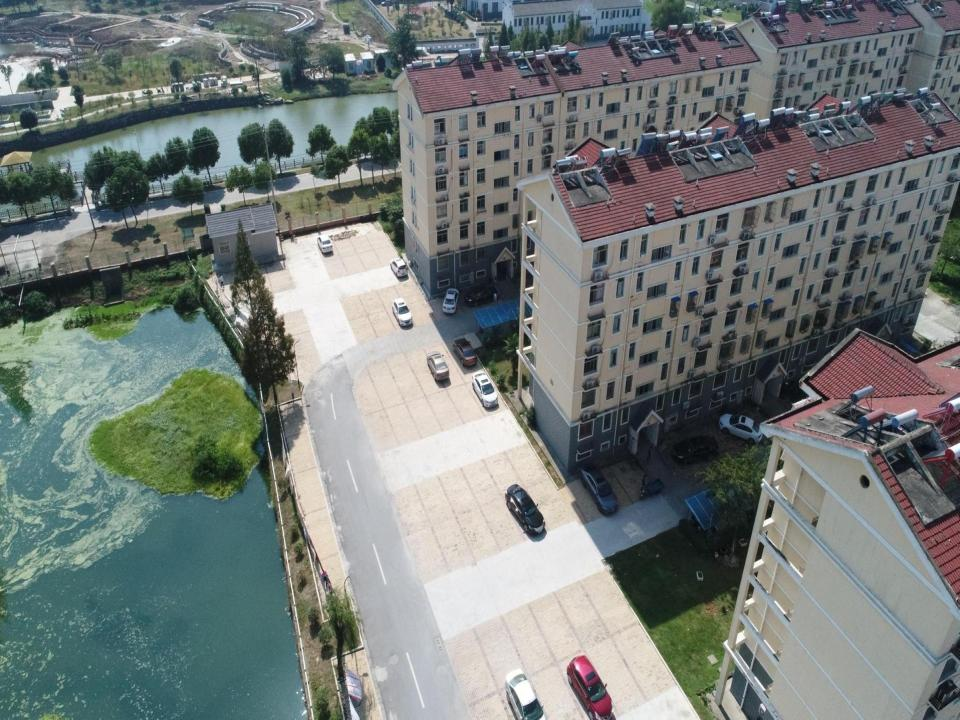car: (566, 656, 613, 720), (506, 483, 545, 537), (505, 668, 546, 719), (582, 464, 618, 514), (719, 413, 765, 444), (672, 436, 720, 460), (472, 369, 498, 408), (466, 283, 498, 305), (453, 339, 477, 367), (427, 352, 450, 379), (392, 298, 412, 326), (443, 287, 459, 316), (391, 256, 408, 278), (317, 235, 333, 253)
